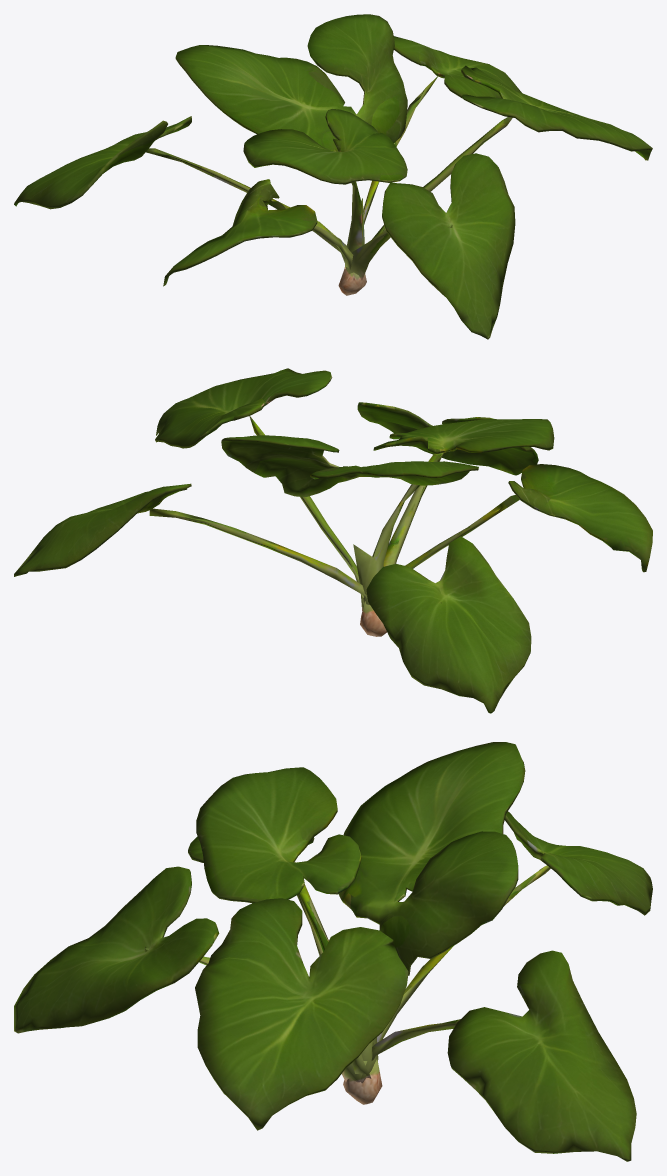
Rendered from Odora1.fbx.
The picture shows the model from 3 angles, top to bottom: view 1: azimuth 30°, elevation 25°; view 2: azimuth 150°, elevation 25°; view 3: azimuth 270°, elevation 25°; orthographic projection. The views are drawn at different scales.
Parts seen in each view (by area): view 1: tripo_node_9187a170; view 2: tripo_node_9187a170; view 3: tripo_node_9187a170.
Boxes of the visible parts, <box> form: tripo_node_9187a170: <box>14,14,652,339</box>; tripo_node_9187a170: <box>14,368,652,713</box>; tripo_node_9187a170: <box>14,742,652,1161</box>.
Bounding box in the file's own units: 0.9504 × 0.4267 × 0.8606.
1 material, 1 textured.
